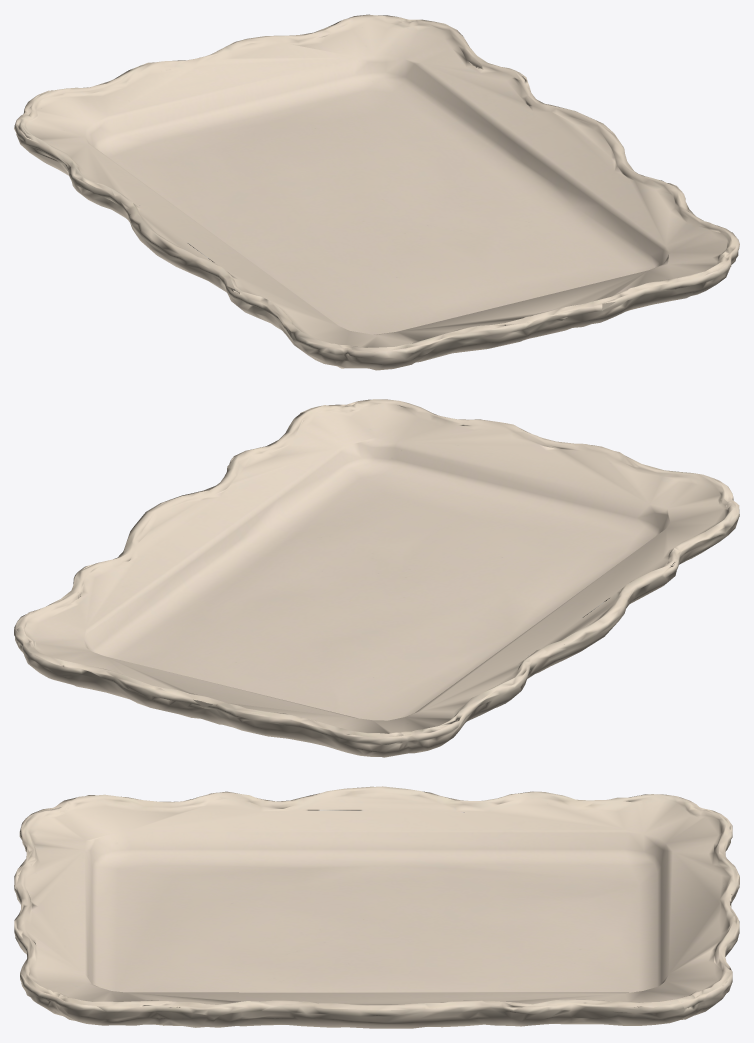
The model's file is PA1Plate.fbx.
3 renders of one model, top to bottom at view 1: azimuth 30°, elevation 25°; view 2: azimuth 150°, elevation 25°; view 3: azimuth 270°, elevation 25°, orthographic.
Parts seen in each view (by area): view 1: PA1Plate; view 2: PA1Plate; view 3: PA1Plate.
Part boxes in pixels (bbox=[...]): PA1Plate: bbox=[14, 14, 739, 370]; PA1Plate: bbox=[14, 399, 739, 757]; PA1Plate: bbox=[14, 786, 739, 1028].
Bounding box in the file's own units: 10 × 0.998 × 13.71.
Materials: 1 (1 with a texture image).
